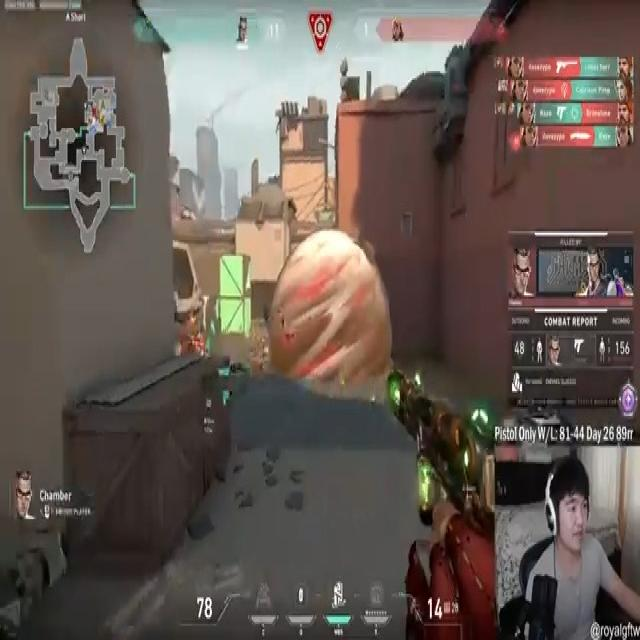smoke: (269, 232, 394, 396)
